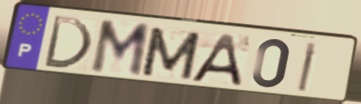0: (250, 37, 292, 90)
A: (187, 32, 244, 88)
D: (41, 14, 95, 72)
I: (295, 40, 320, 94)
M: (87, 19, 153, 80), (139, 25, 204, 82)
